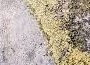Corrosion: (25, 1, 90, 65)
